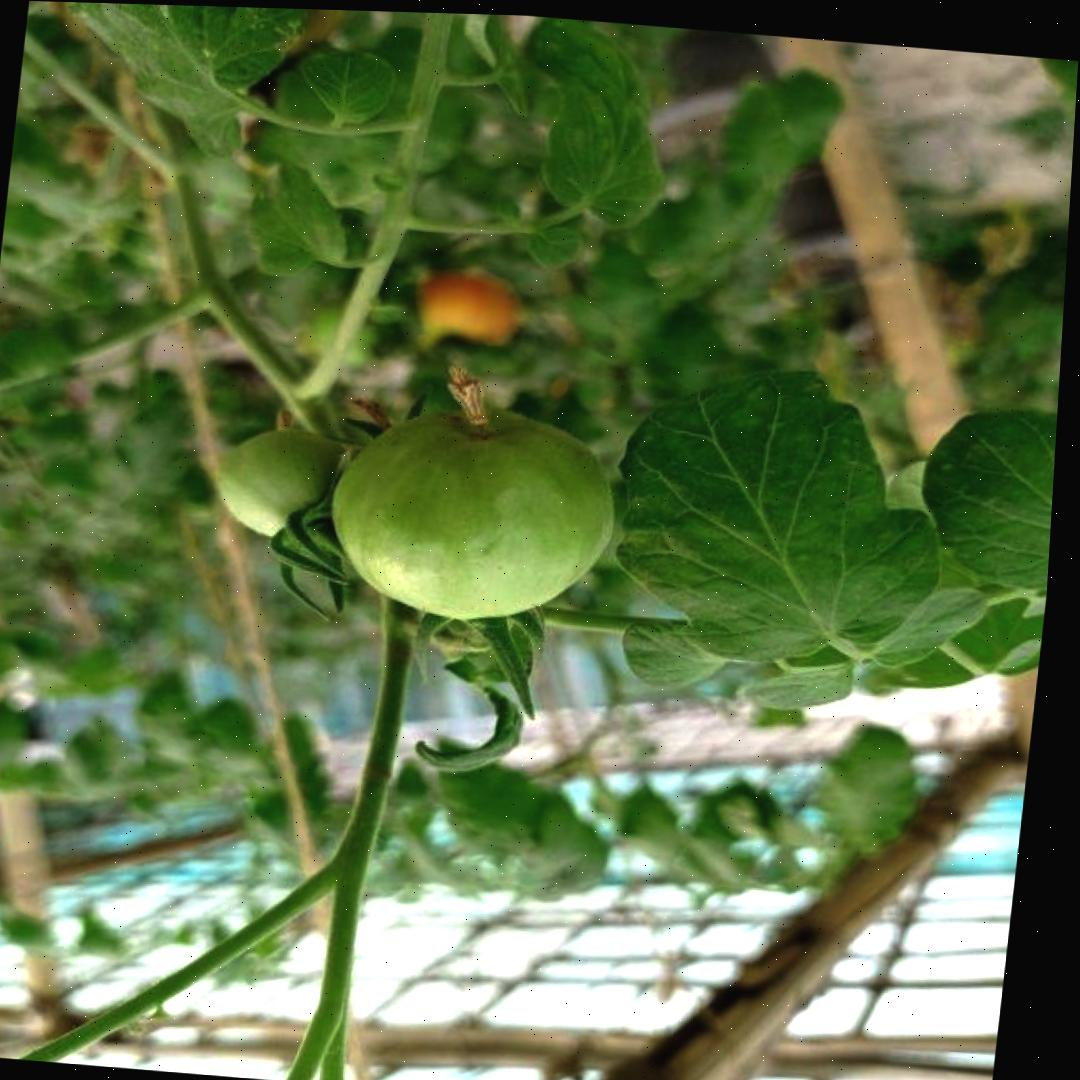mentah: (313, 390, 627, 632), (208, 423, 355, 548)
